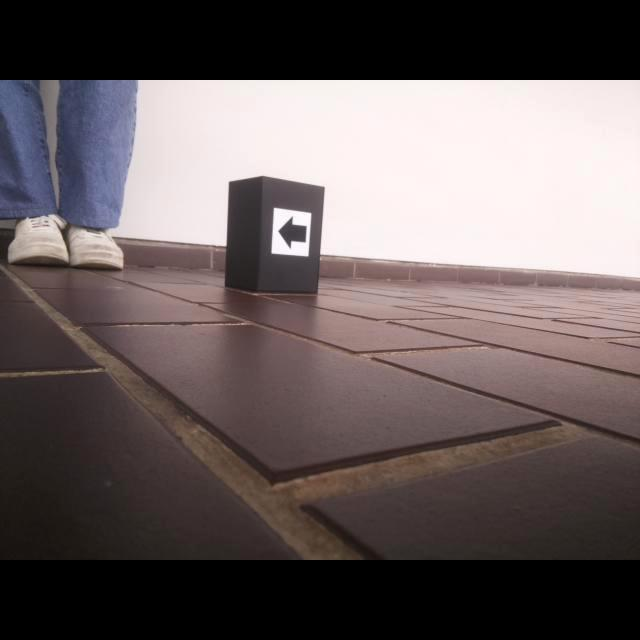LEFT: (277, 215, 307, 250)
